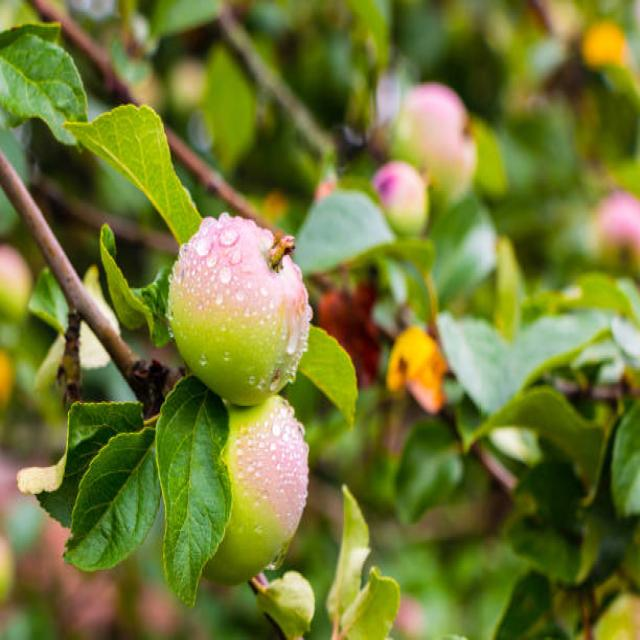Unripe: (168, 211, 308, 408)
